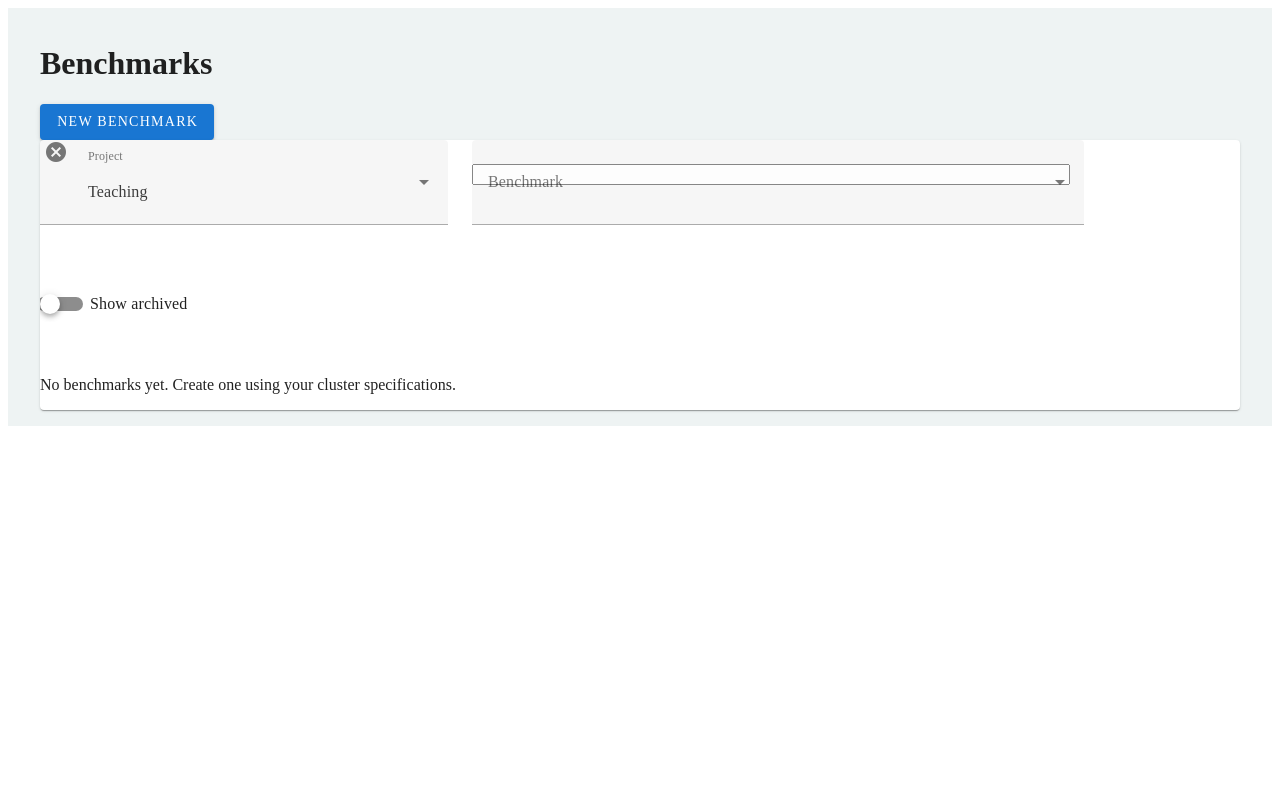
Test: project and archived filters choose only visible benchmarks
Click the checkbox labelled "Show archived" at (139, 303), box left=90, top=295, right=188, bottom=312
(page scrolled)
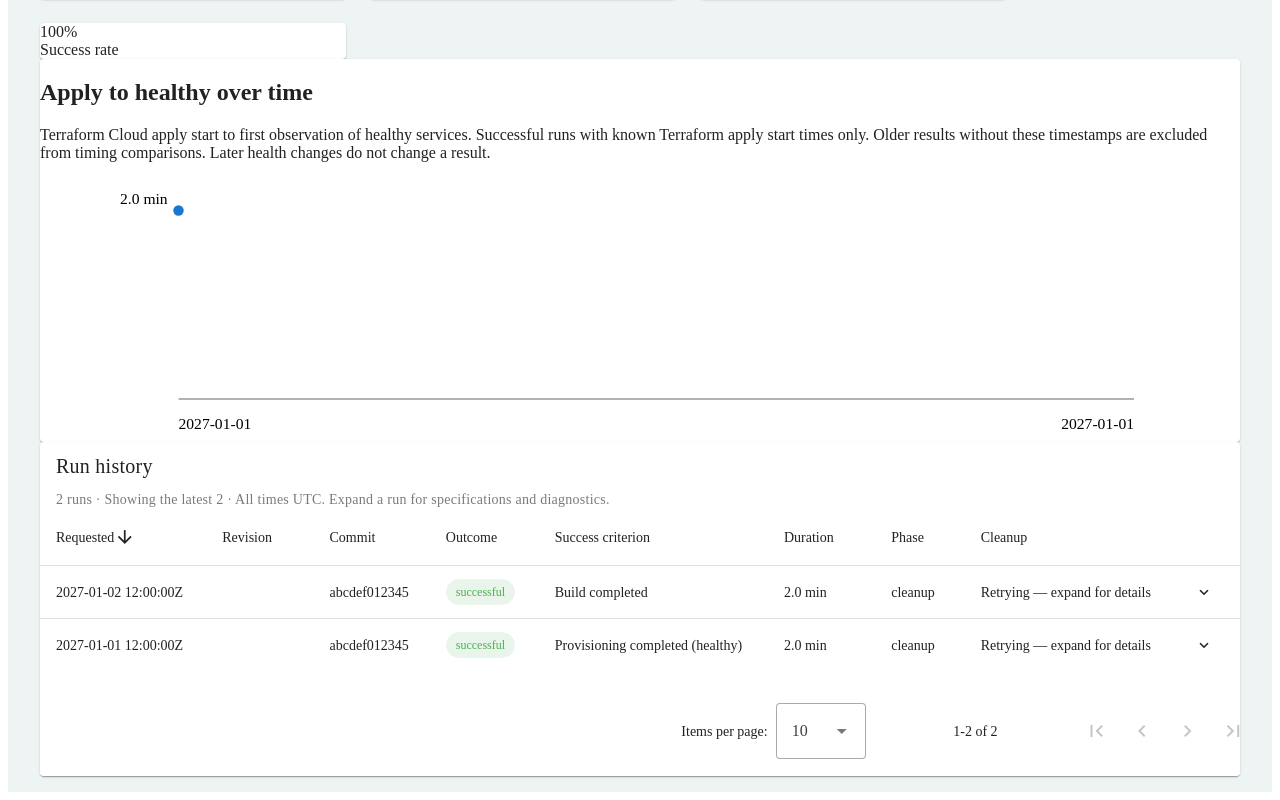
expect the table is shown: met, box left=40, top=509, right=1240, bottom=671
